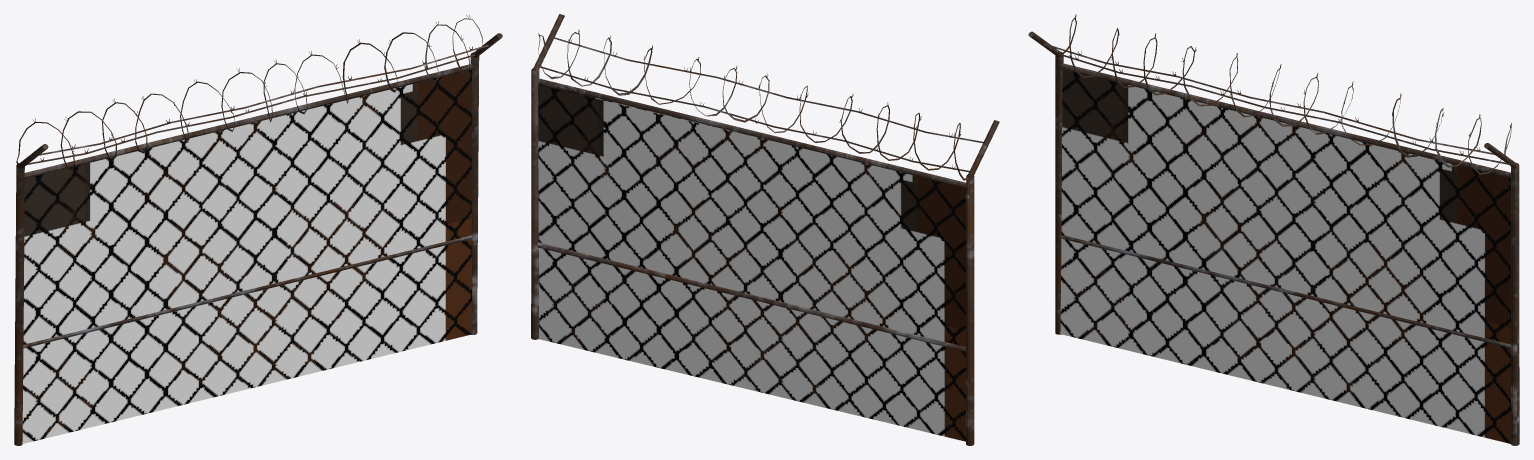
The model's file is barbedwirefence_primary.fbx.
3 renders of one model, left to right at view 1: azimuth 30°, elevation 25°; view 2: azimuth 150°, elevation 25°; view 3: azimuth 330°, elevation 25°, orthographic. The views are drawn at different scales.
Parts seen in each view (by area): view 1: polySurface137; view 2: polySurface137; view 3: polySurface137.
Boxes of the visible parts, x1,y1,x2,y2 form: polySurface137: [14, 14, 502, 445]; polySurface137: [531, 14, 999, 445]; polySurface137: [1028, 14, 1519, 445].
Size of the model in its own units: 82.9 by 55.28 by 11.25.
